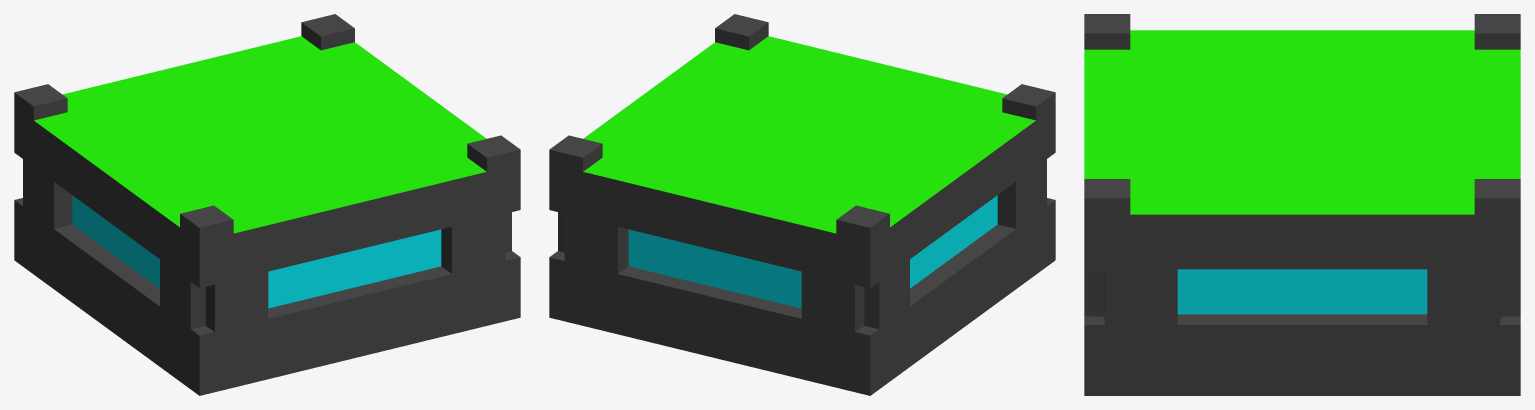
Rendered from Platform X.fbx.
3 renders of one model, left to right at view 1: azimuth 30°, elevation 25°; view 2: azimuth 150°, elevation 25°; view 3: azimuth 270°, elevation 25°, orthographic. The views are drawn at different scales.
Visible parts, largest first — view 1: Platform X; view 2: Platform X; view 3: Platform X.
Part boxes in pixels (<box>): Platform X: <box>14,14,520,395</box>; Platform X: <box>549,14,1055,395</box>; Platform X: <box>1084,14,1520,395</box>.
Bounding box in the file's own units: 200 × 99.98 × 200.
